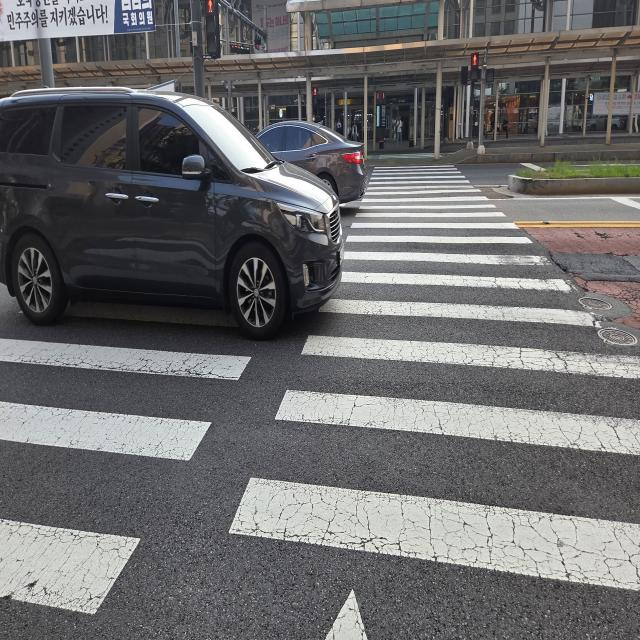car: (0, 71, 359, 389)
